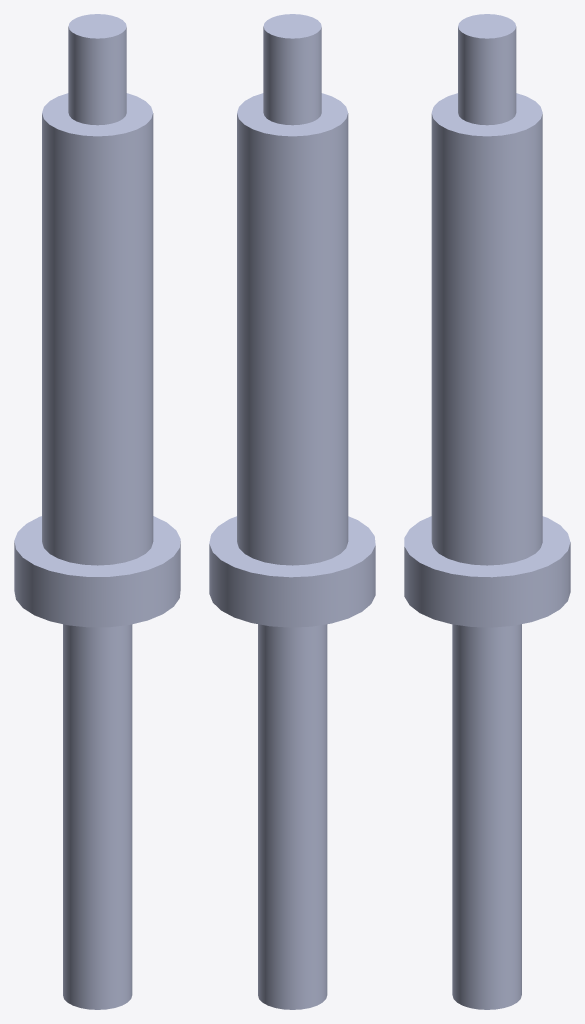
The model's file is Bumper Post 8-32 Thread at Bottom, 6-32 at Top (02-4056).fbx.
3 renders of one model, left to right at view 1: azimuth 30°, elevation 25°; view 2: azimuth 150°, elevation 25°; view 3: azimuth 270°, elevation 25°, orthographic.
Parts seen in each view (by area): view 1: Bumper Post 8-32 Thread at Bottom, 6-32 at Top (02-4056); view 2: Bumper Post 8-32 Thread at Bottom, 6-32 at Top (02-4056); view 3: Bumper Post 8-32 Thread at Bottom, 6-32 at Top (02-4056).
Boxes of the visible parts, bbox=[...] form: Bumper Post 8-32 Thread at Bottom, 6-32 at Top (02-4056): bbox=[14, 14, 180, 1009]; Bumper Post 8-32 Thread at Bottom, 6-32 at Top (02-4056): bbox=[209, 14, 375, 1009]; Bumper Post 8-32 Thread at Bottom, 6-32 at Top (02-4056): bbox=[404, 14, 570, 1009].
Bounding box in the file's own units: 0.9506 × 6.11 × 0.9487.
